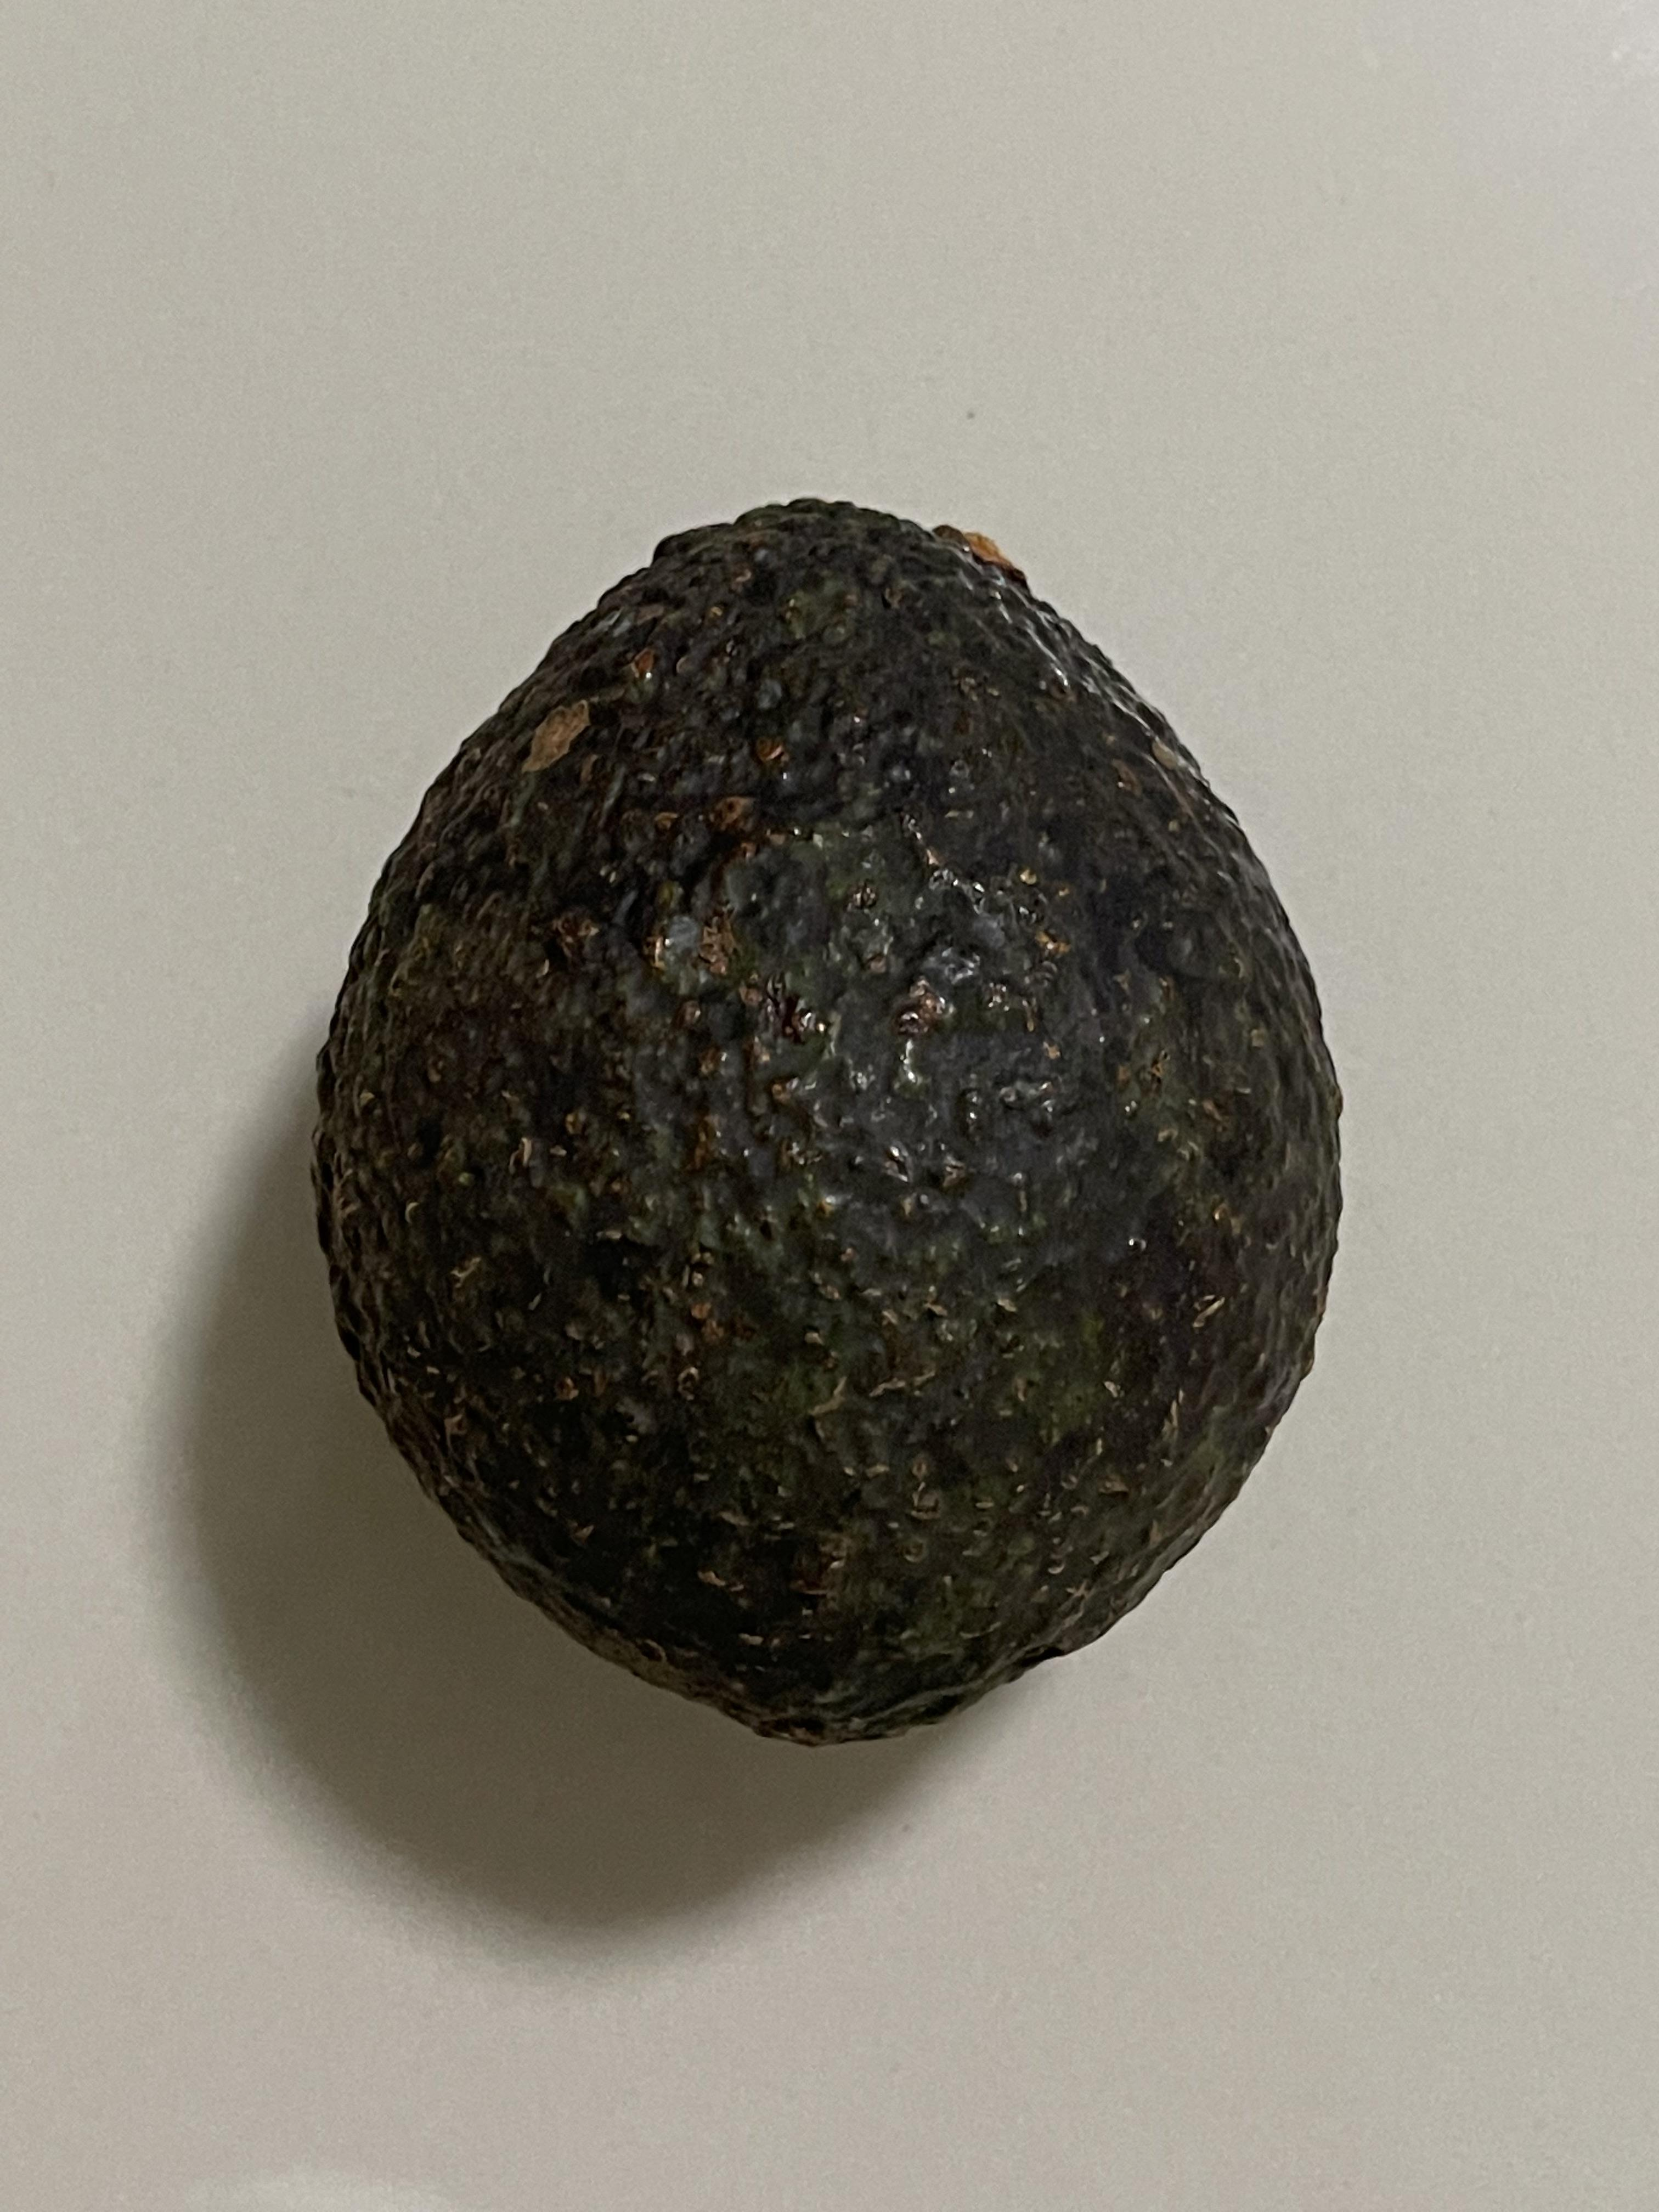Level1: (274, 455, 1391, 1787)
